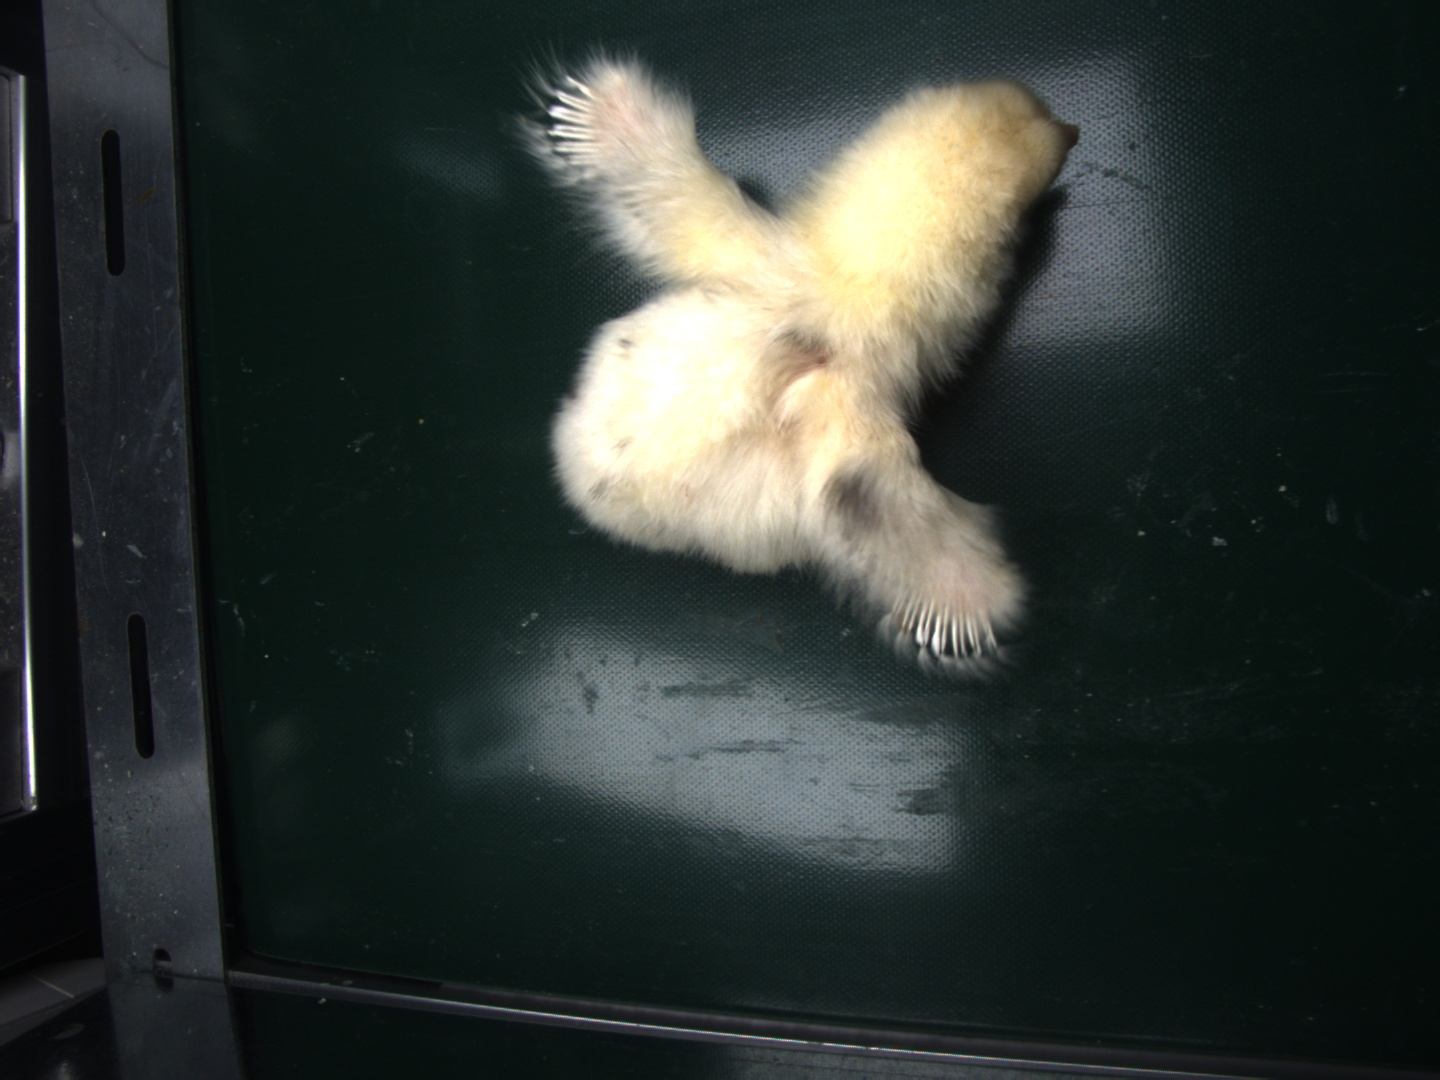male: (888, 594, 994, 657), (547, 73, 608, 175)
